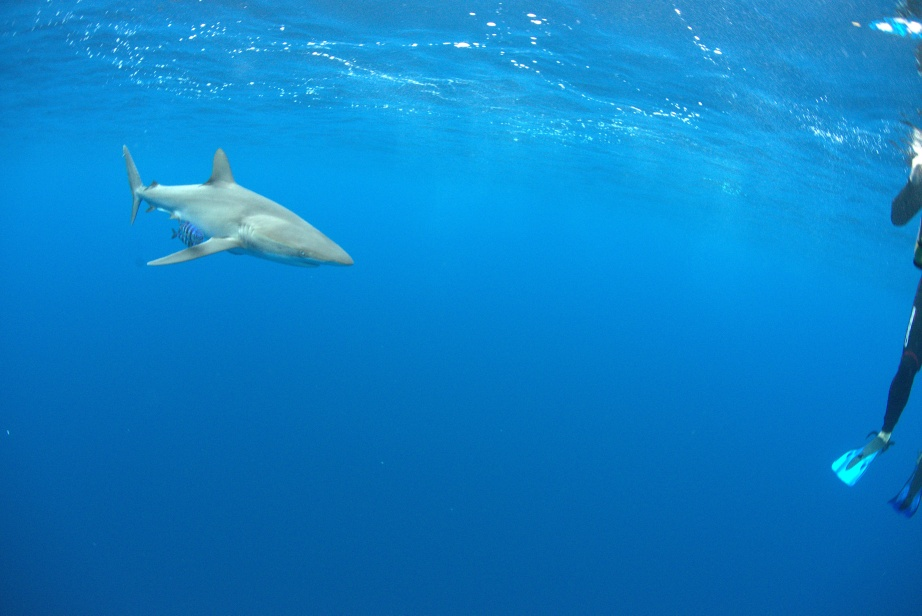Sedoso: (94, 116, 368, 305)
